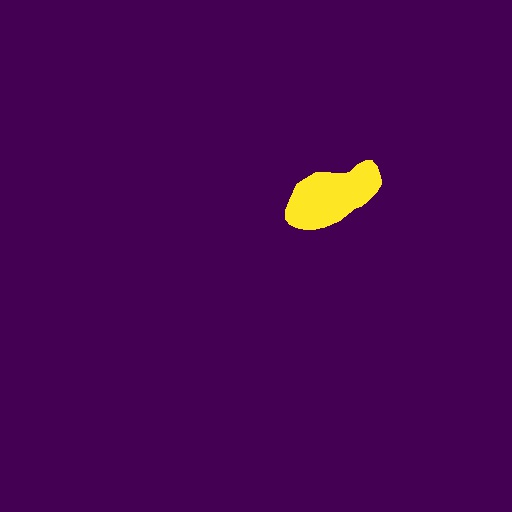Gliomia_tumour: (285, 160, 382, 230)
